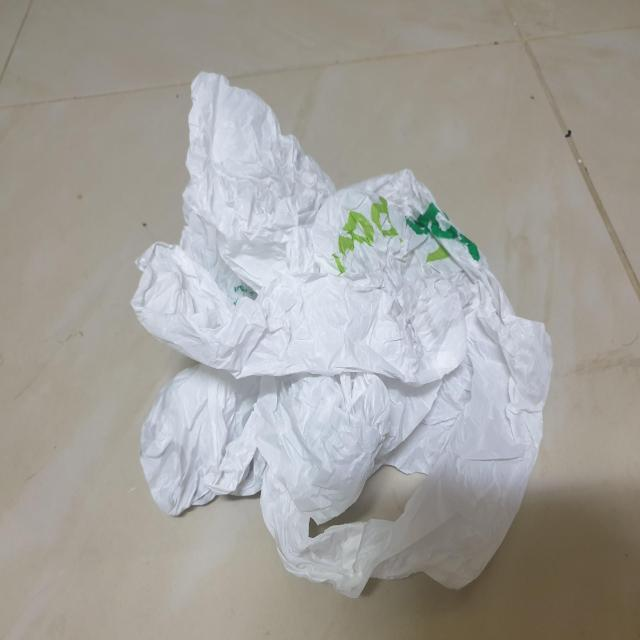plastic bag: (116, 64, 564, 611)
